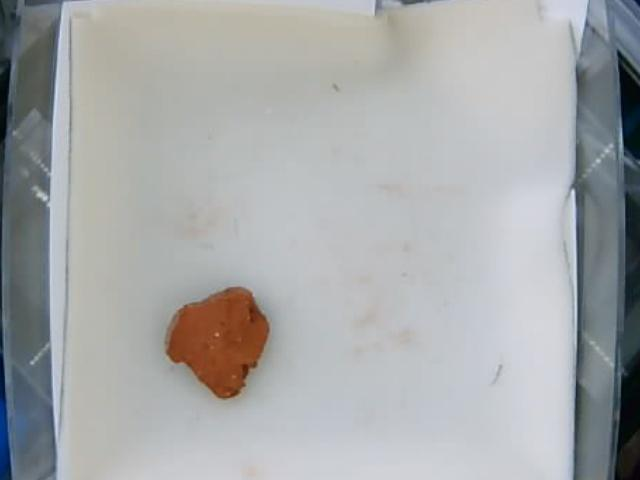Brisk: (164, 289, 268, 400)
